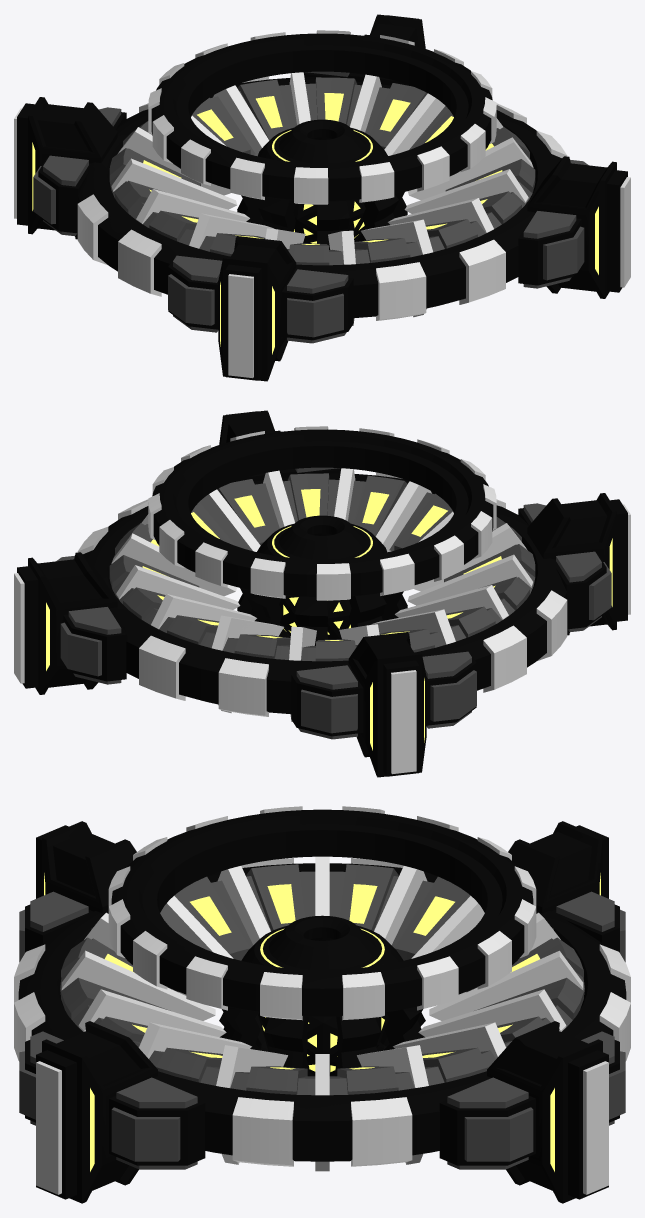
Rendered from structure_coheser_5x5.glb.
The picture shows the model from 3 angles, top to bottom: view 1: azimuth 30°, elevation 25°; view 2: azimuth 150°, elevation 25°; view 3: azimuth 270°, elevation 25°; orthographic projection. The views are drawn at different scales.
Parts seen in each view (by area): view 1: 01_Structure_CohesionFacility_5x5, 01_Structure_cohesionFacility_5x5_spinner, ring upper, ring decal inner offset glow, ring, ring upper decal outer, ring decal inner offset, ring decal outer, 01_Structure_CohesionFacility_5x5_core; view 2: 01_Structure_CohesionFacility_5x5, 01_Structure_cohesionFacility_5x5_spinner, ring upper, ring upper decal outer, ring, ring decal inner offset glow, ring decal inner offset, ring decal outer, 01_Structure_CohesionFacility_5x5_core; view 3: 01_Structure_CohesionFacility_5x5, 01_Structure_cohesionFacility_5x5_spinner, ring upper, ring decal inner offset glow, ring, ring upper decal outer, ring decal inner offset, ring decal outer, 01_Structure_CohesionFacility_5x5_core.
Part boxes in pixels (bbox=[...]): 01_Structure_CohesionFacility_5x5: bbox=[14, 14, 630, 381]; 01_Structure_cohesionFacility_5x5_spinner: bbox=[109, 77, 535, 325]; ring upper: bbox=[151, 33, 492, 201]; ring decal inner offset glow: bbox=[112, 72, 533, 316]; ring: bbox=[77, 79, 566, 320]; ring upper decal outer: bbox=[148, 30, 496, 204]; ring decal inner offset: bbox=[110, 83, 533, 265]; ring decal outer: bbox=[77, 105, 566, 320]; 01_Structure_CohesionFacility_5x5_core: bbox=[293, 200, 365, 243]; 01_Structure_CohesionFacility_5x5: bbox=[14, 410, 630, 777]; 01_Structure_cohesionFacility_5x5_spinner: bbox=[109, 468, 535, 721]; ring upper: bbox=[152, 429, 493, 597]; ring upper decal outer: bbox=[148, 426, 496, 600]; ring: bbox=[78, 473, 567, 716]; ring decal inner offset glow: bbox=[112, 471, 533, 712]; ring decal inner offset: bbox=[111, 479, 534, 661]; ring decal outer: bbox=[78, 472, 567, 715]; 01_Structure_CohesionFacility_5x5_core: bbox=[279, 596, 351, 639]; 01_Structure_CohesionFacility_5x5: bbox=[14, 821, 630, 1203]; 01_Structure_cohesionFacility_5x5_spinner: bbox=[61, 856, 583, 1171]; ring upper: bbox=[111, 809, 533, 1016]; ring decal inner offset glow: bbox=[84, 856, 583, 1171]; ring: bbox=[14, 858, 630, 1166]; ring upper decal outer: bbox=[108, 806, 536, 1020]; ring decal inner offset: bbox=[60, 871, 584, 1095]; ring decal outer: bbox=[14, 858, 630, 1164]; 01_Structure_CohesionFacility_5x5_core: bbox=[258, 1012, 388, 1075].
Bounding box in the file's own units: 0.9822 × 0.3598 × 0.9822.
